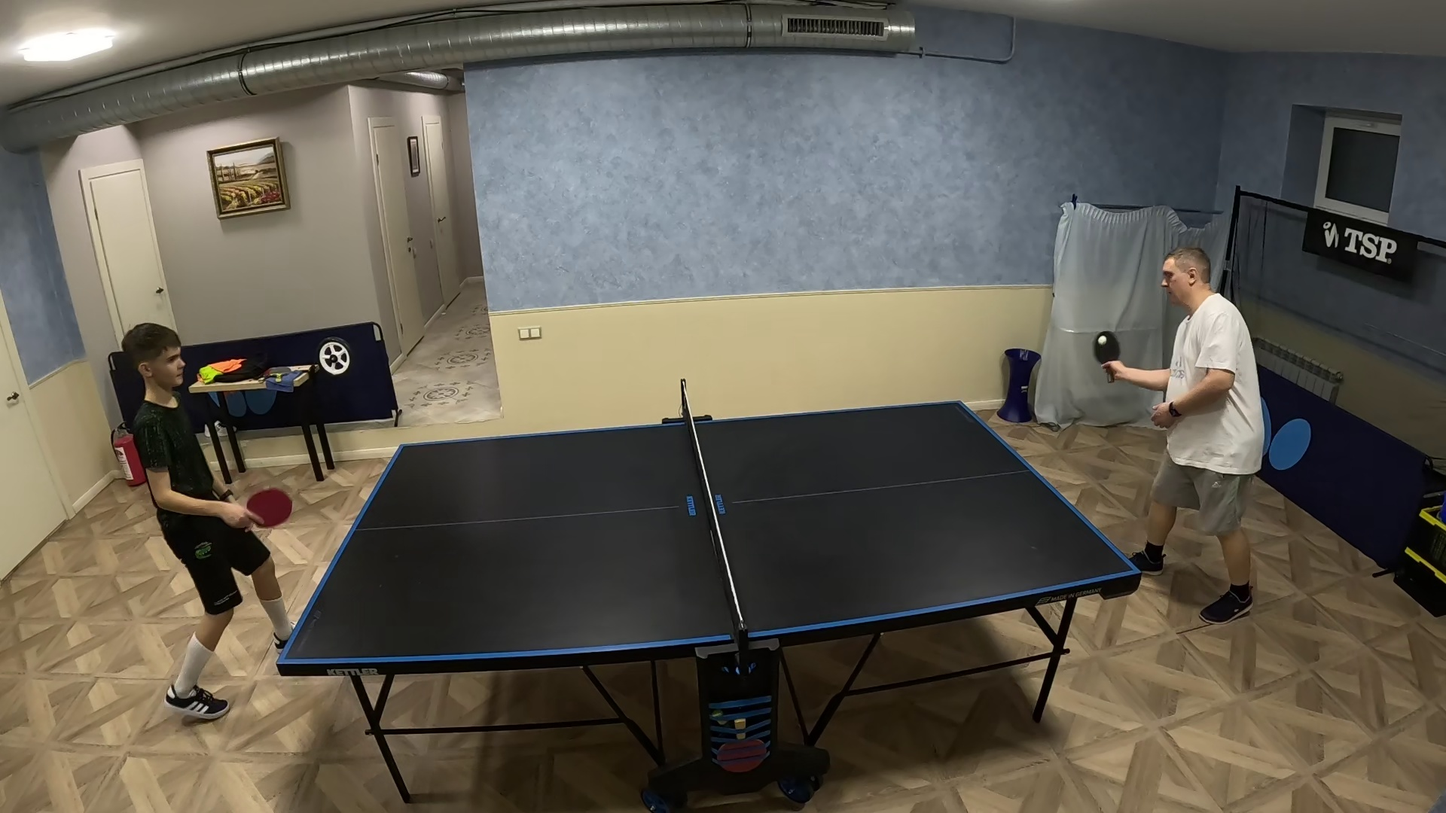Ball: (1098, 335, 1107, 346)
